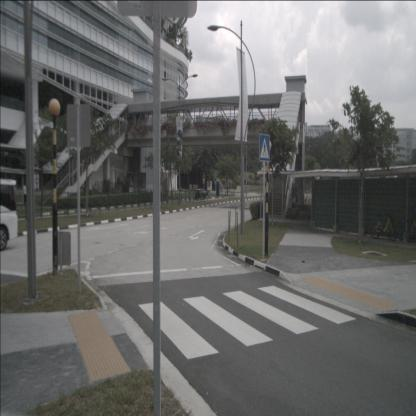human-pedestrian-adult: (23, 181, 27, 208), (206, 188, 209, 200)
vehicle-bicycle: (371, 211, 397, 241), (406, 210, 415, 244)
vehicle-car: (0, 179, 18, 251), (195, 189, 209, 200)
